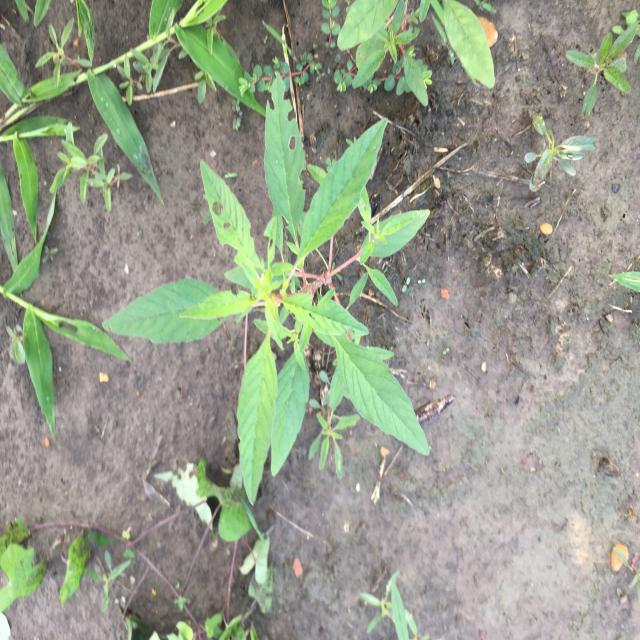MorningGlory: (0, 458, 277, 639)
SpottedSpurge: (236, 2, 418, 97)
Waterhemp: (99, 70, 434, 509), (338, 1, 498, 109), (48, 129, 135, 215), (564, 18, 638, 118), (520, 112, 599, 196), (32, 18, 94, 88), (114, 39, 170, 102)
